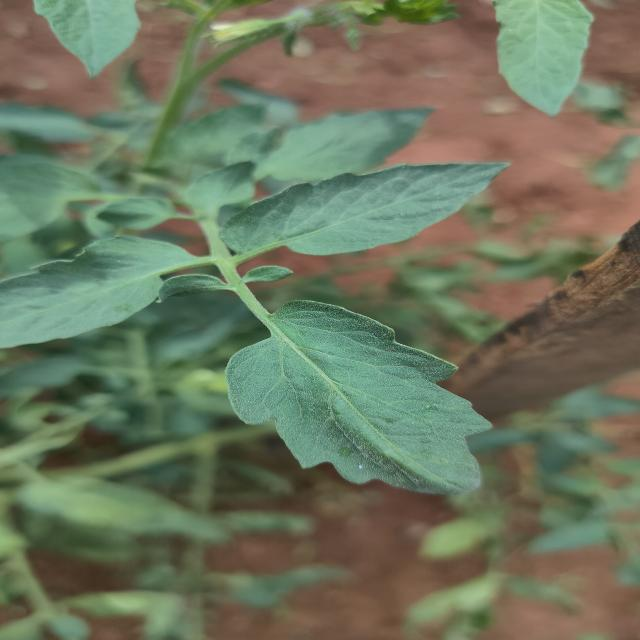tomato_healthy: (224, 301, 491, 494), (227, 160, 508, 256), (0, 229, 193, 347)
